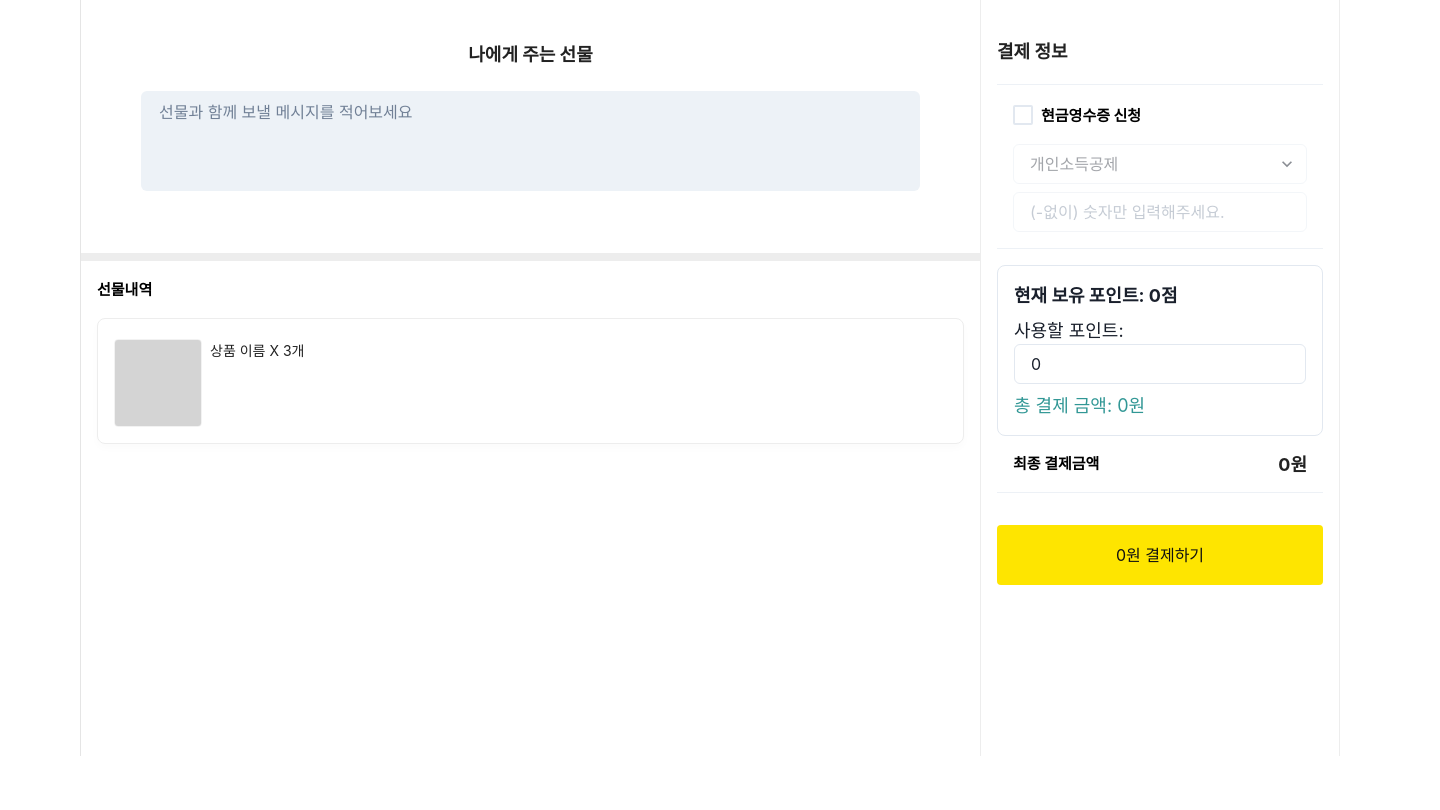
Test: 현금영수증 체크박스가 체크되지 않은 경우 필드가 비활성화 되어있는지 확인
The image size is (1440, 810).
expect the dropdown with test id "receipttype" is disabled: met, box x1=1013 y1=144 x2=1307 y2=184
expect the field with test id "inputnumber" is disabled: met, box x1=1013 y1=192 x2=1307 y2=232
Click the checkbox with test id "needcheck" at point(1077, 114), box x1=1013 y1=101 x2=1141 y2=128
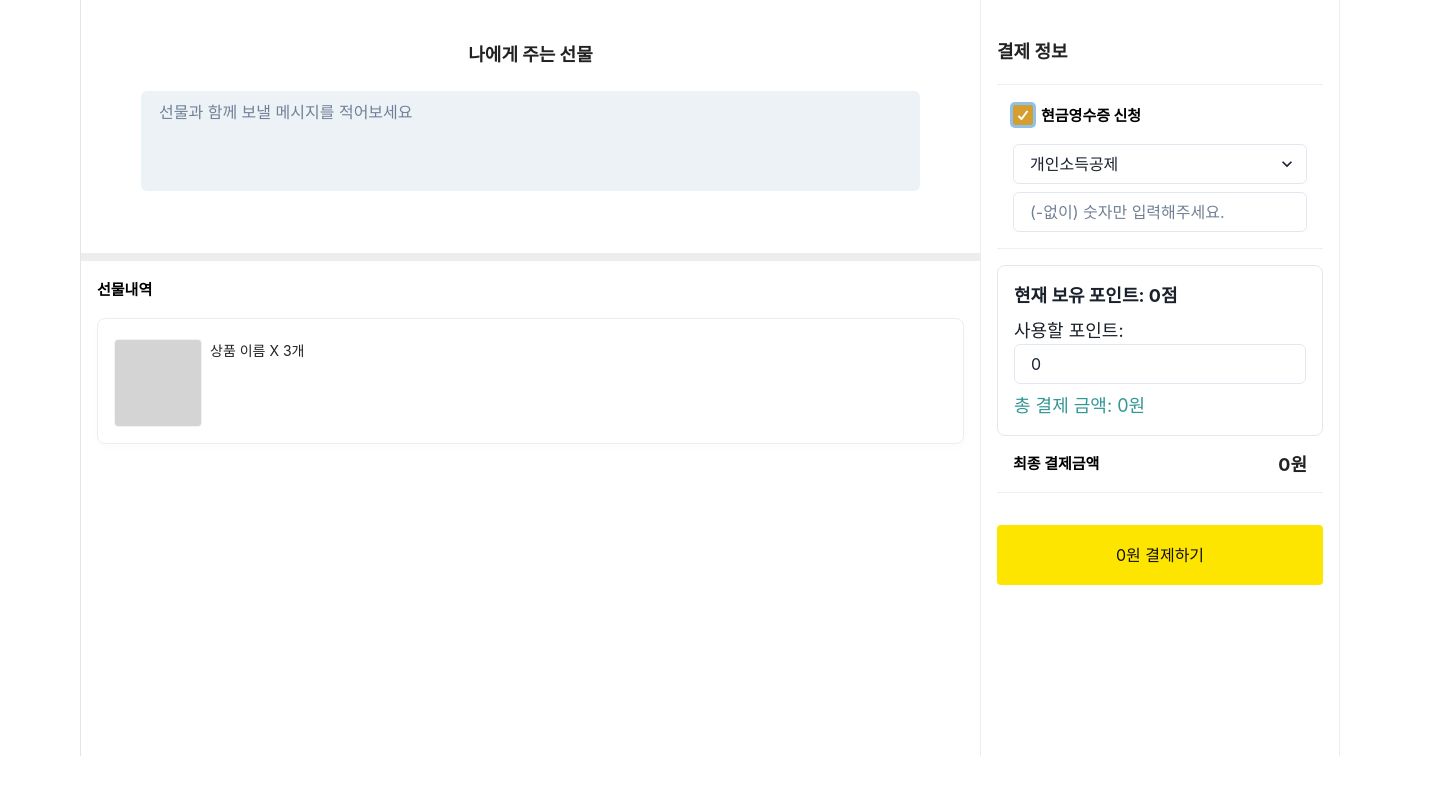
expect the dropdown with test id "receipttype" is enabled: met, box x1=1013 y1=144 x2=1307 y2=184
expect the field with test id "inputnumber" is enabled: met, box x1=1013 y1=192 x2=1307 y2=232
